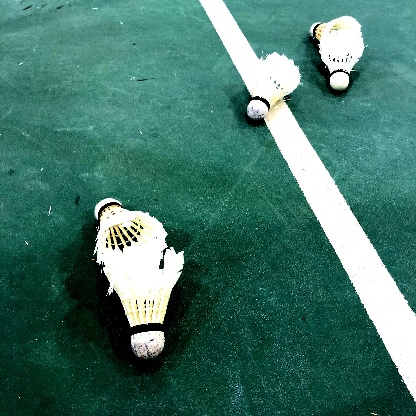ball_single: (102, 244, 184, 360), (95, 198, 168, 270), (247, 51, 300, 120), (319, 29, 364, 91), (309, 16, 362, 49)
